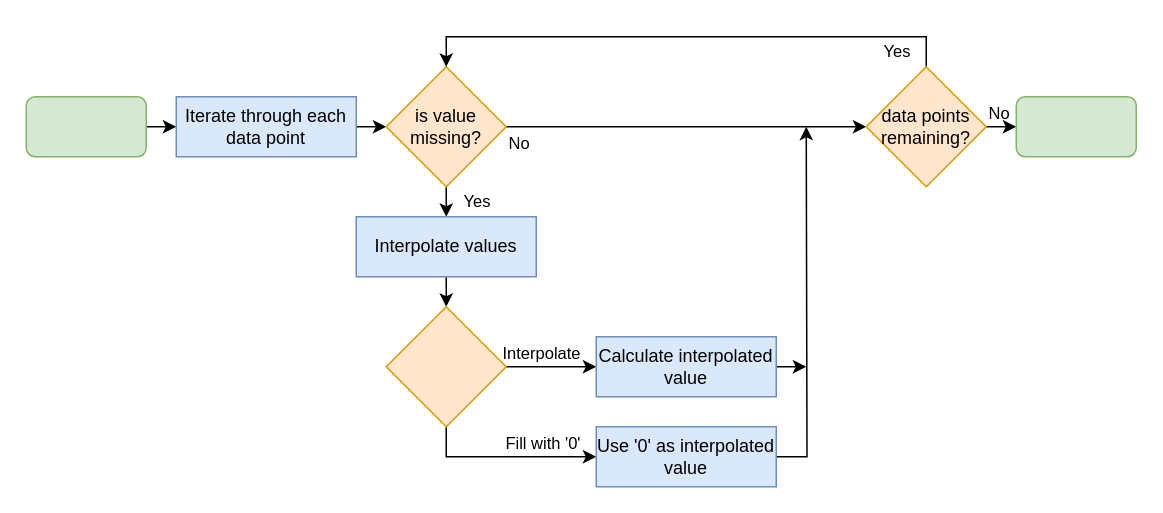
This 1163x513 diagram has some shape labels left out. The centre of each missing label's shape, as x and y in pixels:
"End" goes at point 1075,126.
"mode" goes at point 445,366.
"Start" goes at point 85,126.
